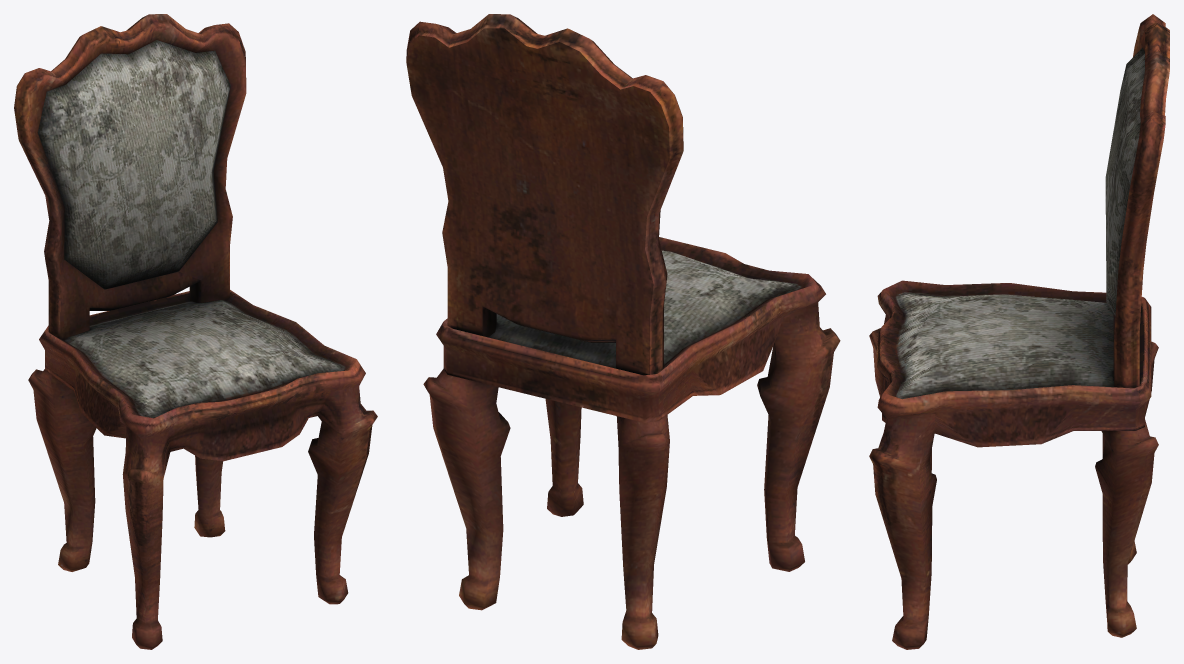
The model's file is chair_nice01.dae.
3 views of the same model, side by side, from view 1: azimuth 30°, elevation 25°; view 2: azimuth 150°, elevation 25°; view 3: azimuth 270°, elevation 25° (orthographic). The views are drawn at different scales.
Parts seen in each view (by area): view 1: chair_nice01_Mesh; view 2: chair_nice01_Mesh; view 3: chair_nice01_Mesh.
Part boxes in pixels (bbox=[...]): chair_nice01_Mesh: bbox=[14, 14, 377, 649]; chair_nice01_Mesh: bbox=[406, 14, 840, 649]; chair_nice01_Mesh: bbox=[869, 14, 1169, 649].
Size of the model in its own units: 0.6539 by 1.31 by 0.6397.
